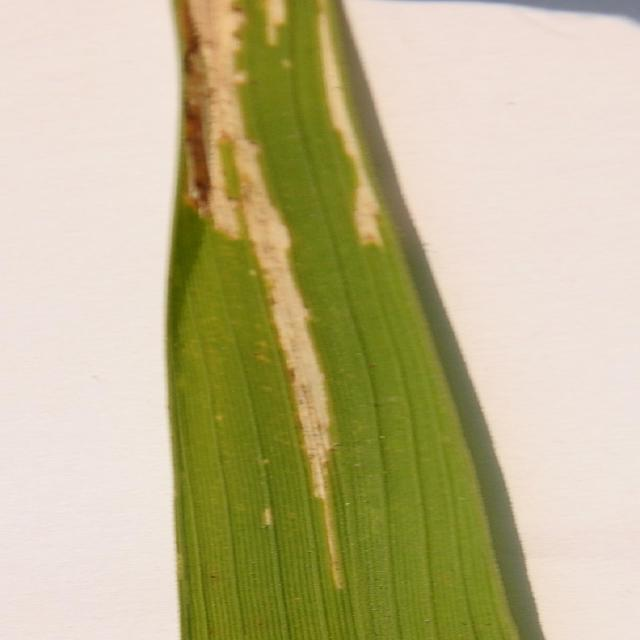Bacterial leaf blight: (131, 1, 533, 640)
